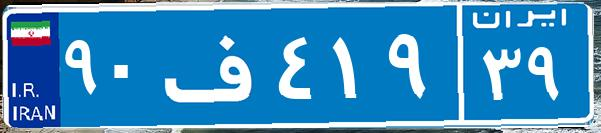0: (110, 28, 158, 105)
1: (330, 28, 385, 110)
3: (475, 38, 525, 113)
4: (273, 28, 330, 110)
9: (385, 28, 445, 110), (57, 26, 110, 107), (525, 38, 570, 115)
ف: (158, 15, 273, 115)
